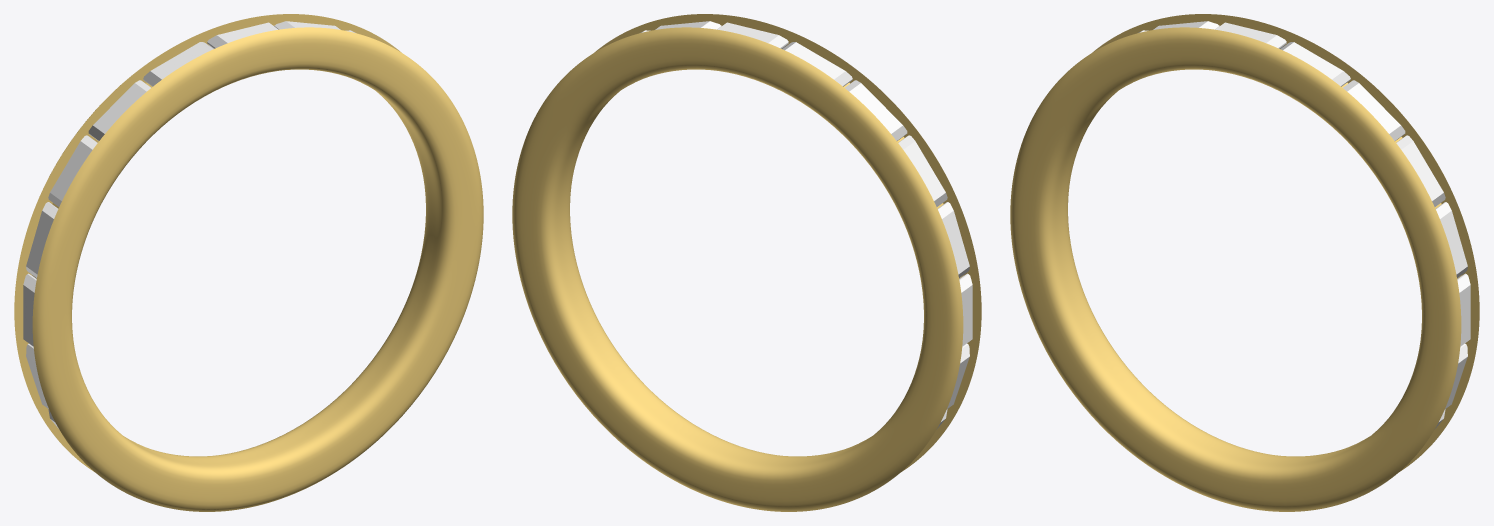
Rendered from Emilybaguette_webgi.glb.
The picture shows the model from 3 angles, left to right: view 1: azimuth 30°, elevation 25°; view 2: azimuth 150°, elevation 25°; view 3: azimuth 330°, elevation 25°; orthographic projection.
Visible parts, largest first — view 1: Emily_YG_for_3d_model, Emily_dia_for_3d_model002, Emily_dia_for_3d_model001, Emily_dia_for_3d_model003, Emily_dia_for_3d_model, Emily_dia_for_3d_model004, Emily_dia_for_3d_model019; view 2: Emily_YG_for_3d_model, Emily_dia_for_3d_model002, Emily_dia_for_3d_model001, Emily_dia_for_3d_model003, Emily_dia_for_3d_model, Emily_dia_for_3d_model004, Emily_dia_for_3d_model019; view 3: Emily_YG_for_3d_model, Emily_dia_for_3d_model016, Emily_dia_for_3d_model017, Emily_dia_for_3d_model015, Emily_dia_for_3d_model018, Emily_dia_for_3d_model014, Emily_dia_for_3d_model019.
Part boxes in pixels (box(x1,y1,x2,y2)): Emily_YG_for_3d_model: box(14, 14, 483, 511); Emily_dia_for_3d_model002: box(48, 135, 97, 206); Emily_dia_for_3d_model001: box(88, 80, 150, 140); Emily_dia_for_3d_model003: box(26, 202, 58, 277); Emily_dia_for_3d_model: box(143, 42, 213, 86); Emily_dia_for_3d_model004: box(23, 273, 36, 346); Emily_dia_for_3d_model019: box(207, 22, 278, 48); Emily_YG_for_3d_model: box(512, 14, 981, 511); Emily_dia_for_3d_model002: box(898, 135, 947, 206); Emily_dia_for_3d_model001: box(845, 80, 907, 140); Emily_dia_for_3d_model003: box(937, 202, 969, 277); Emily_dia_for_3d_model: box(782, 42, 852, 86); Emily_dia_for_3d_model004: box(959, 273, 972, 346); Emily_dia_for_3d_model019: box(717, 22, 788, 48); Emily_YG_for_3d_model: box(1010, 14, 1479, 511); Emily_dia_for_3d_model016: box(1396, 135, 1445, 206); Emily_dia_for_3d_model017: box(1343, 80, 1405, 140); Emily_dia_for_3d_model015: box(1435, 202, 1467, 277); Emily_dia_for_3d_model018: box(1280, 42, 1350, 86); Emily_dia_for_3d_model014: box(1457, 273, 1470, 346); Emily_dia_for_3d_model019: box(1215, 22, 1286, 48).
Size of the model in its own units: 2.82 by 2.82 by 0.2813.
